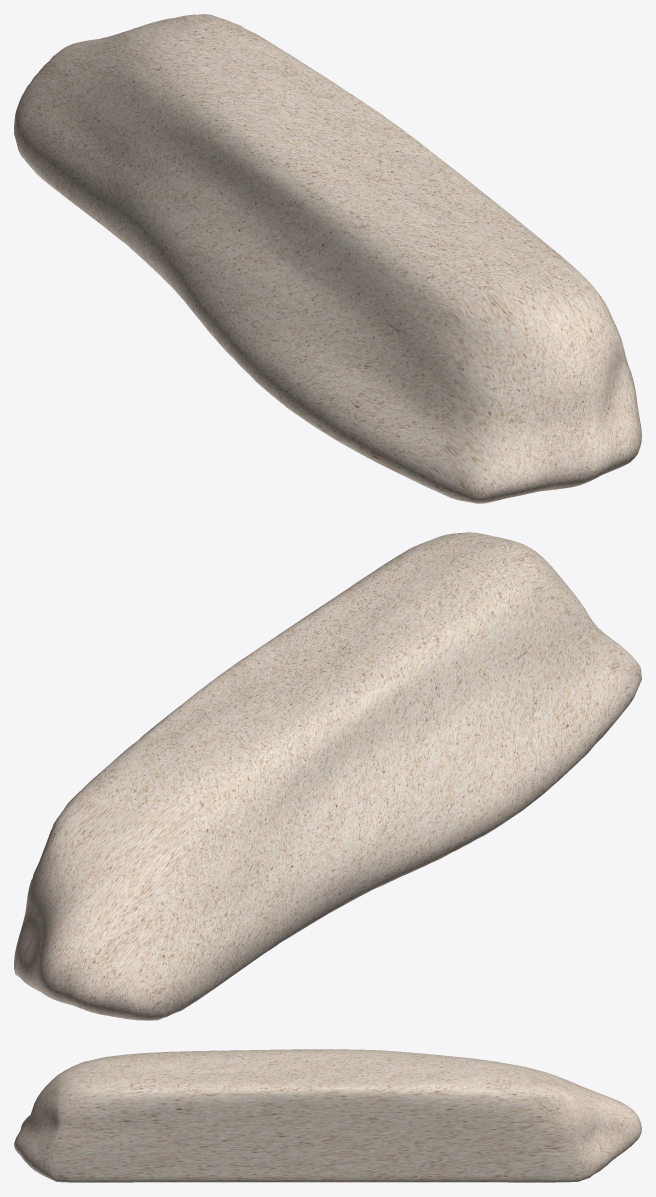
Rendered from Sand1.fbx.
3 renders of one model, top to bottom at view 1: azimuth 30°, elevation 25°; view 2: azimuth 150°, elevation 25°; view 3: azimuth 270°, elevation 25°, orthographic. The views are drawn at different scales.
Parts seen in each view (by area): view 1: Cube; view 2: Cube; view 3: Cube.
Part boxes in pixels (x1,y1,x2,y2): Cube: (14, 14, 641, 503); Cube: (14, 532, 641, 1020); Cube: (14, 1049, 641, 1182).
Size of the model in its own units: 5.85 by 23.78 by 4.36.
1 material, 1 textured.
